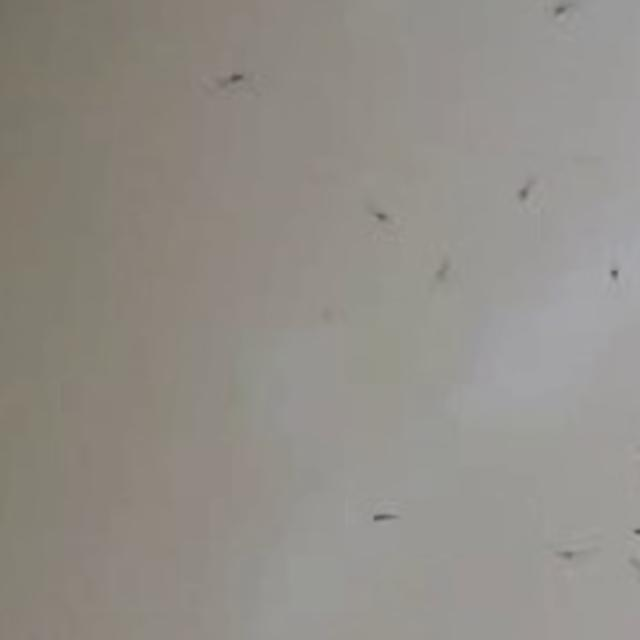shrimp-seed: (197, 55, 265, 101), (409, 256, 456, 307), (512, 155, 546, 215), (598, 252, 632, 310), (362, 193, 402, 234), (544, 540, 602, 568), (532, 0, 588, 28), (357, 502, 407, 528)
